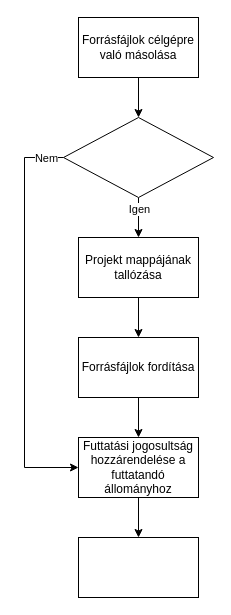
Some shapes in this 231 by 615 pixel diagram are drawn without their labels. Here are the shapes that lost their labels. From the top down, the box of each, then its label:
(62, 116, 214, 198): Van szükség fordításra?
(78, 536, 198, 598): Kód futtatása
